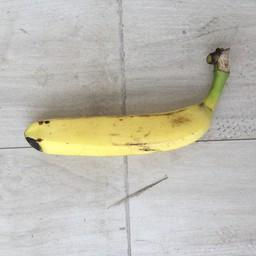Banana Ripe: (16, 89, 232, 180)
